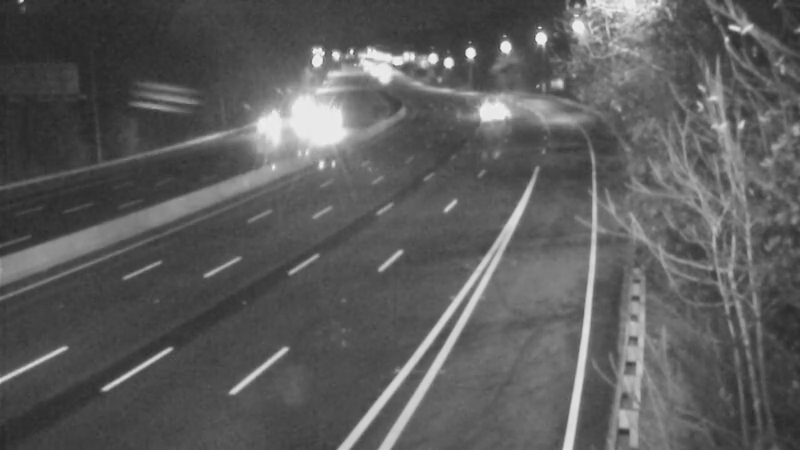vehicle: (461, 78, 511, 128), (241, 102, 291, 152), (299, 104, 349, 154), (280, 86, 330, 136)
